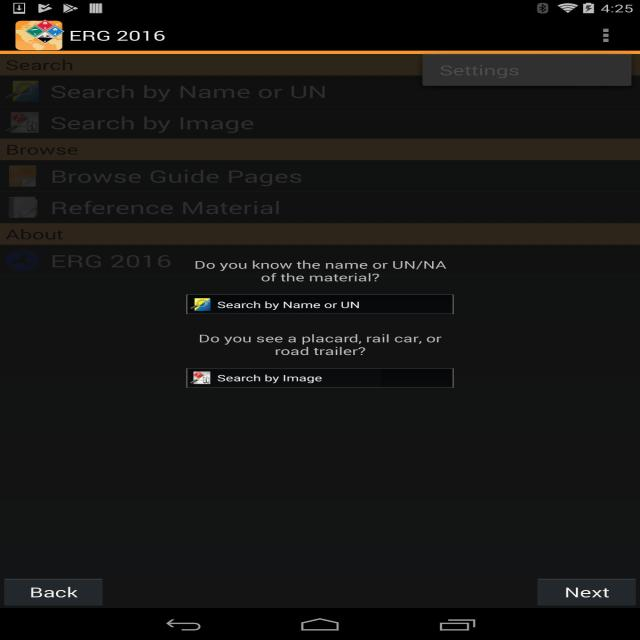button: (427, 55, 630, 87), (188, 367, 454, 388), (187, 296, 453, 316), (539, 578, 636, 606), (6, 578, 101, 605), (594, 24, 618, 46)
heading: (68, 29, 169, 44), (4, 142, 79, 158), (6, 56, 70, 73), (4, 229, 65, 243)
image: (16, 20, 62, 50), (7, 165, 40, 190), (7, 251, 38, 274), (10, 79, 38, 101), (10, 196, 36, 216), (191, 370, 213, 386), (193, 299, 212, 311)
text: (192, 258, 451, 283), (196, 332, 449, 357), (43, 82, 329, 101), (50, 167, 305, 188), (50, 199, 283, 218), (49, 116, 258, 134), (51, 254, 175, 272), (212, 299, 364, 312), (216, 373, 328, 386)
